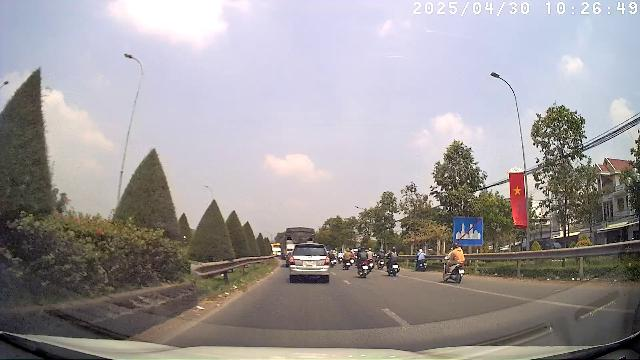421-ket-thuc-khu-dong-dan-cu: (454, 217, 482, 245)
